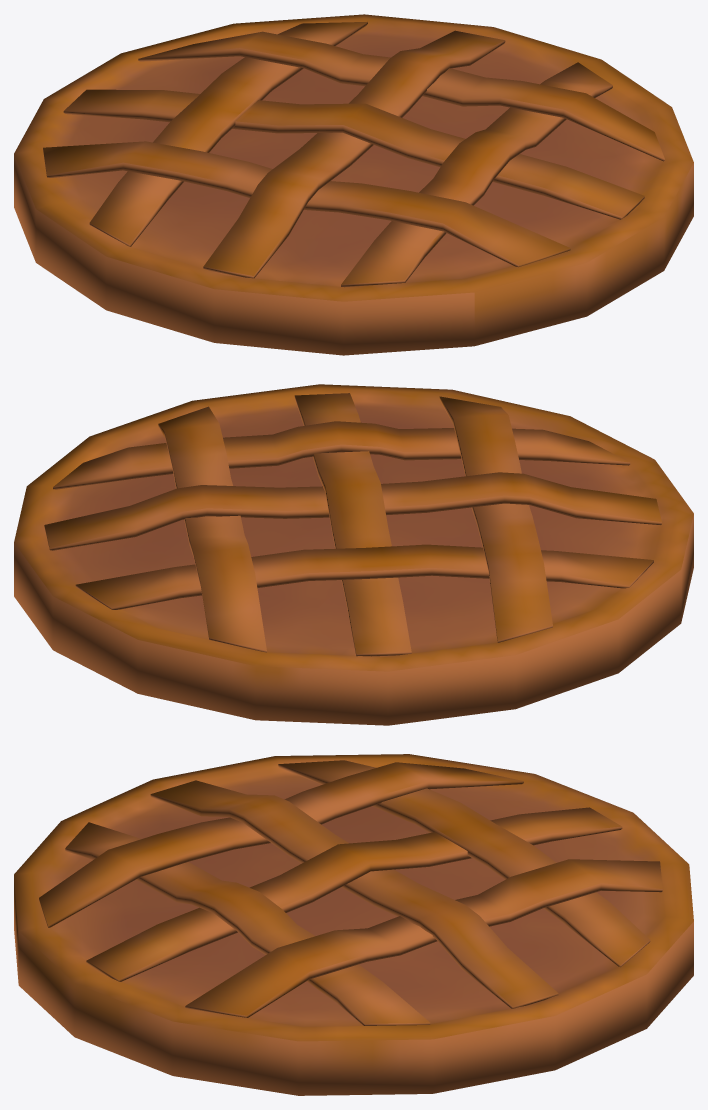
The model's file is apple pie.fbx.
3 renders of one model, top to bottom at view 1: azimuth 30°, elevation 25°; view 2: azimuth 150°, elevation 25°; view 3: azimuth 270°, elevation 25°, orthographic.
Visible parts, largest first — view 1: apple pie; view 2: apple pie; view 3: apple pie.
Part boxes in pixels (x1,y1,x2,y2): apple pie: [14, 14, 693, 355]; apple pie: [14, 384, 693, 725]; apple pie: [14, 754, 693, 1095].
Bounding box in the file's own units: 29.31 × 4.69 × 29.31.
